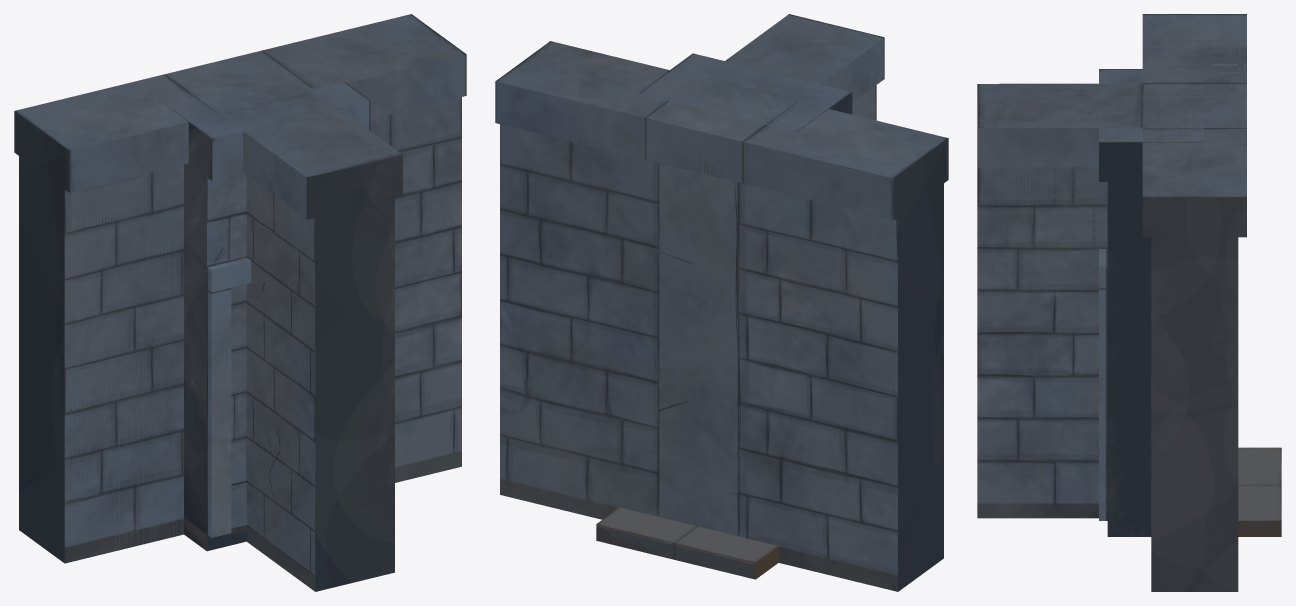
File: TileMap.glb
3 renders of one model, left to right at view 1: azimuth 30°, elevation 25°; view 2: azimuth 150°, elevation 25°; view 3: azimuth 270°, elevation 25°, orthographic. The views are drawn at different scales.
Parts seen in each view (by area): view 1: Dinding.3, Dinding.4, Dinding.1, Dinding.2; view 2: Dinding.3, Dinding.4, Dinding.1, Lantai.3, Dinding.2; view 3: Dinding.4, Dinding.2, Dinding.3, Lantai.3, Dinding.1.
Boxes of the visible parts, x1,y1,x2,y2 form: Dinding.3: (14, 60, 402, 591); Dinding.4: (17, 14, 466, 565); Dinding.1: (158, 74, 369, 550); Dinding.2: (190, 62, 370, 551); Dinding.3: (646, 14, 948, 591); Dinding.4: (495, 15, 895, 519); Dinding.1: (638, 53, 851, 132); Lantai.3: (596, 507, 778, 579); Dinding.2: (641, 53, 852, 131); Dinding.4: (977, 16, 1246, 591); Dinding.2: (1099, 69, 1203, 536); Dinding.3: (977, 14, 1246, 317); Lantai.3: (1238, 447, 1281, 536); Dinding.1: (1099, 69, 1203, 361).
Bounding box in the file's own units: 5 × 5 × 3.5.
8 materials, 8 textured.
